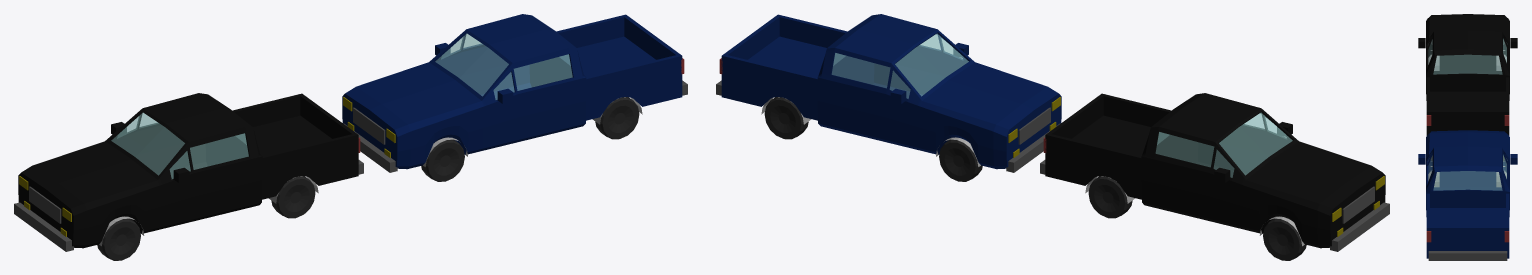
File: Rams.fbx
The picture shows the model from 3 angles, left to right: view 1: azimuth 30°, elevation 25°; view 2: azimuth 150°, elevation 25°; view 3: azimuth 270°, elevation 25°; orthographic projection. The views are drawn at different scales.
Parts seen in each view (by area): view 1: polySurface240 (×2), dodge_ram_lowpoly:wheel_5, wheel_5, dodge_ram_lowpoly:bumper_rear1, bumper_rear1; view 2: polySurface240 (×2), dodge_ram_lowpoly:wheel_5, wheel_5, dodge_ram_lowpoly:bumper_rear1, bumper_rear1; view 3: polySurface240 (×2), bumper_rear1, polySurface235 (×2), wells4, dodge_ram_lowpoly:wells4.
Part boxes in pixels (x1,y1,x2,y2): polySurface240 (×2): [18, 14, 682, 248]; dodge_ram_lowpoly:wheel_5: [97, 176, 315, 260]; wheel_5: [421, 97, 639, 181]; dodge_ram_lowpoly:bumper_rear1: [14, 160, 363, 251]; bumper_rear1: [343, 80, 687, 172]; polySurface240 (×2): [721, 14, 1385, 248]; dodge_ram_lowpoly:wheel_5: [1088, 176, 1306, 260]; wheel_5: [764, 97, 982, 181]; dodge_ram_lowpoly:bumper_rear1: [1040, 160, 1389, 251]; bumper_rear1: [716, 80, 1060, 172]; polySurface240 (×2): [1418, 14, 1517, 258]; bumper_rear1: [1428, 156, 1507, 260]; polySurface235 (×2): [1426, 115, 1509, 242]; wells4: [1428, 161, 1506, 187]; dodge_ram_lowpoly:wells4: [1428, 50, 1506, 70].
Size of the model in its own units: 36.15 by 5.66 by 6.83.
